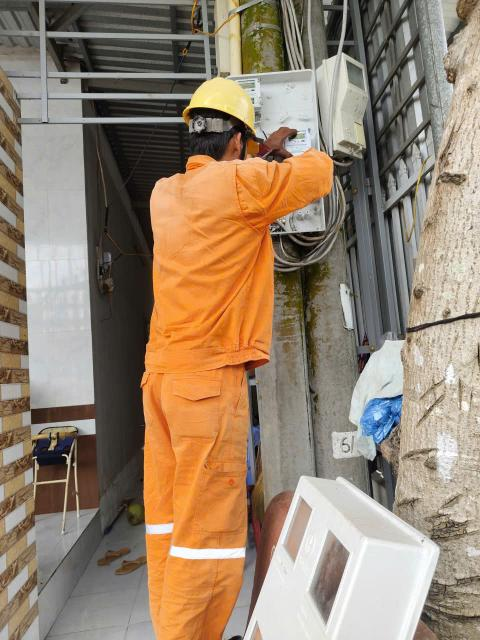gloves: (253, 121, 303, 163)
helmet: (176, 56, 265, 149)
